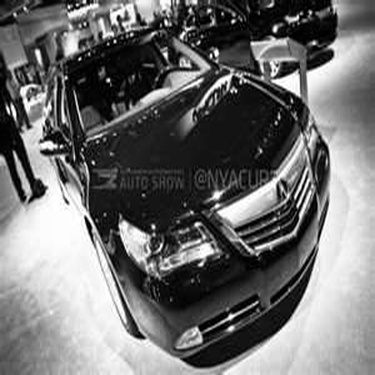car: (26, 20, 332, 363), (162, 1, 343, 93)
